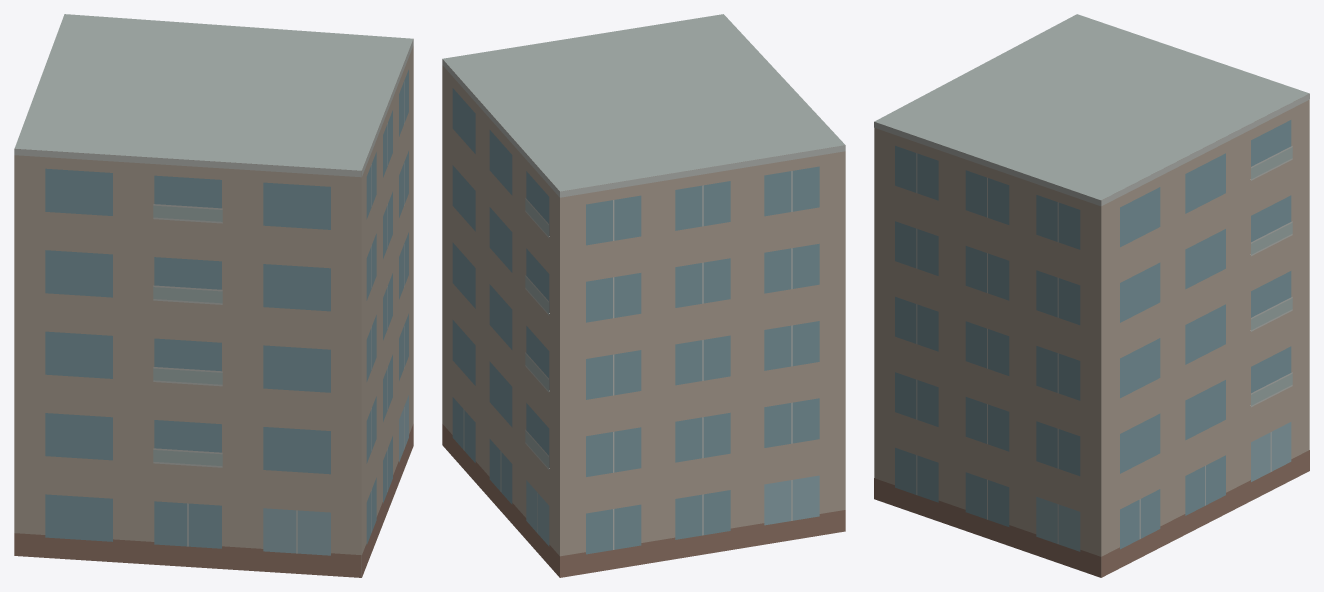
Rendered from survey-upis-32865173.glb.
The picture shows the model from 3 angles, left to right: view 1: azimuth 30°, elevation 25°; view 2: azimuth 150°, elevation 25°; view 3: azimuth 270°, elevation 25°; orthographic projection. The views are drawn at different scales.
Parts seen in each view (by area): view 1: survey-upis-32865173.tmp; view 2: survey-upis-32865173.tmp; view 3: survey-upis-32865173.tmp.
Boxes of the visible parts, left/top/right/bottom form: survey-upis-32865173.tmp: left=14, top=14, right=413, bottom=577; survey-upis-32865173.tmp: left=442, top=14, right=845, bottom=577; survey-upis-32865173.tmp: left=874, top=14, right=1309, bottom=577.
Bounding box in the file's own units: 16.21 × 15.3 × 16.01.
